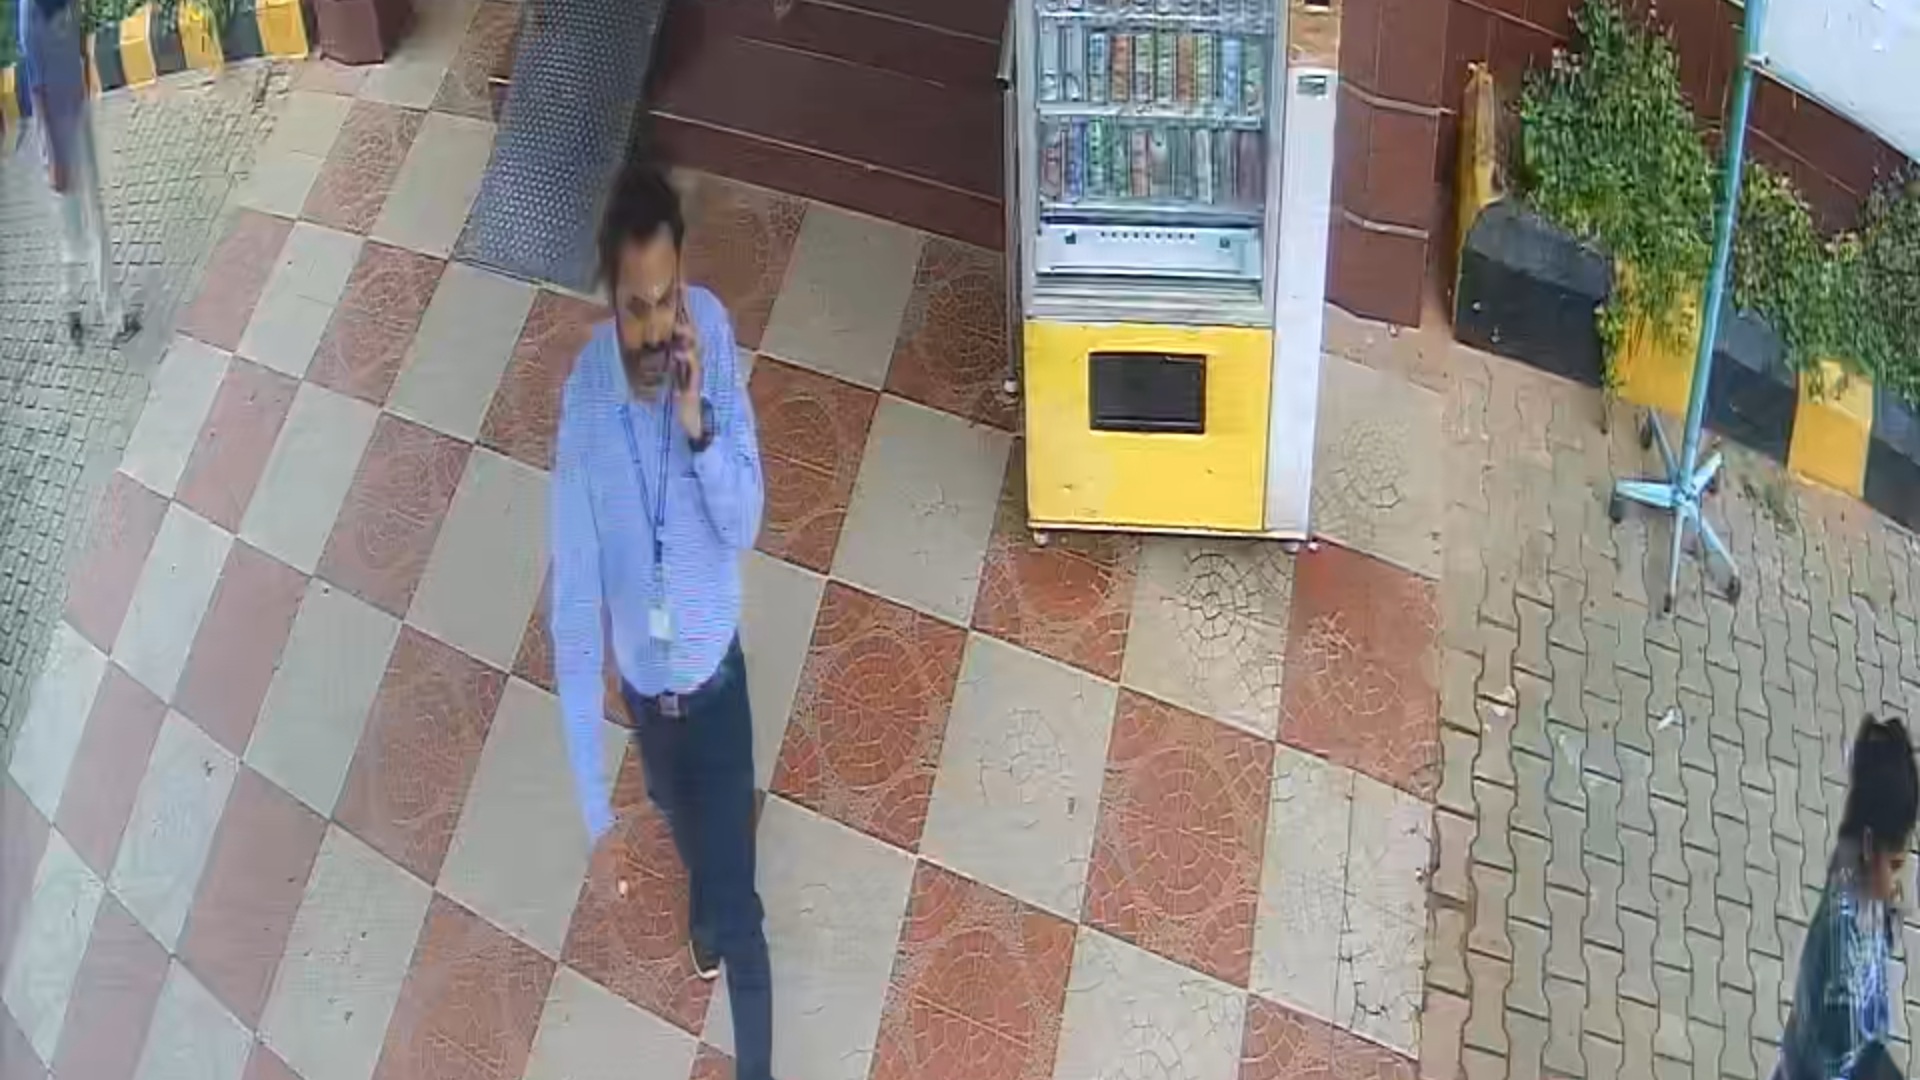not intruder: (545, 157, 802, 1080)
